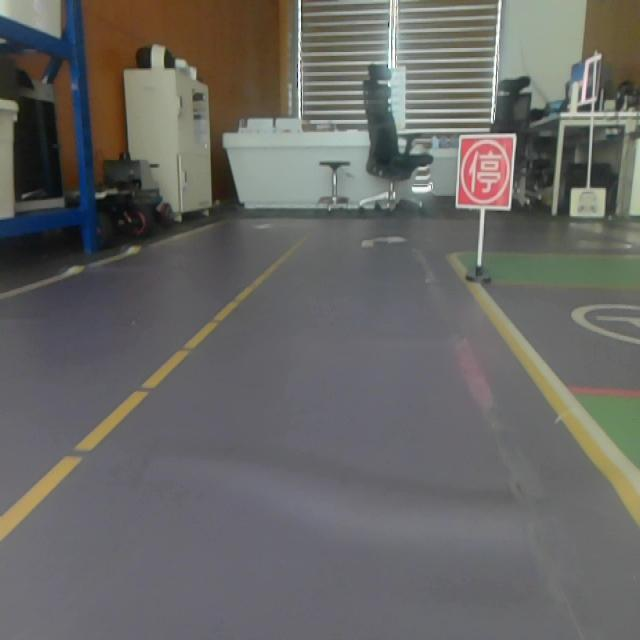left_lane: (0, 239, 308, 544)
right_lane: (448, 255, 640, 523)
